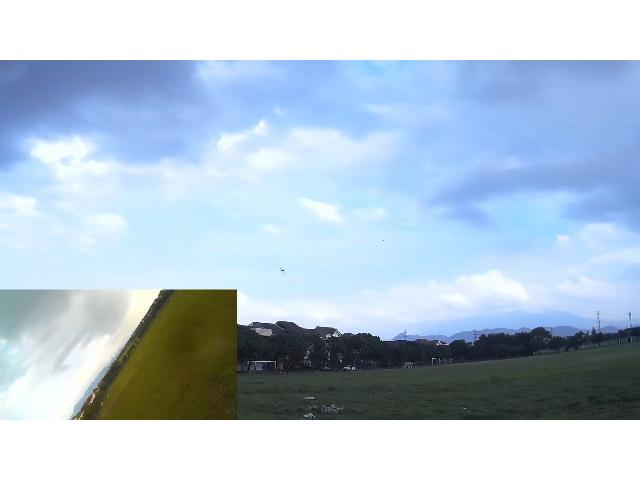Anti-Drone: (278, 265, 286, 275)
